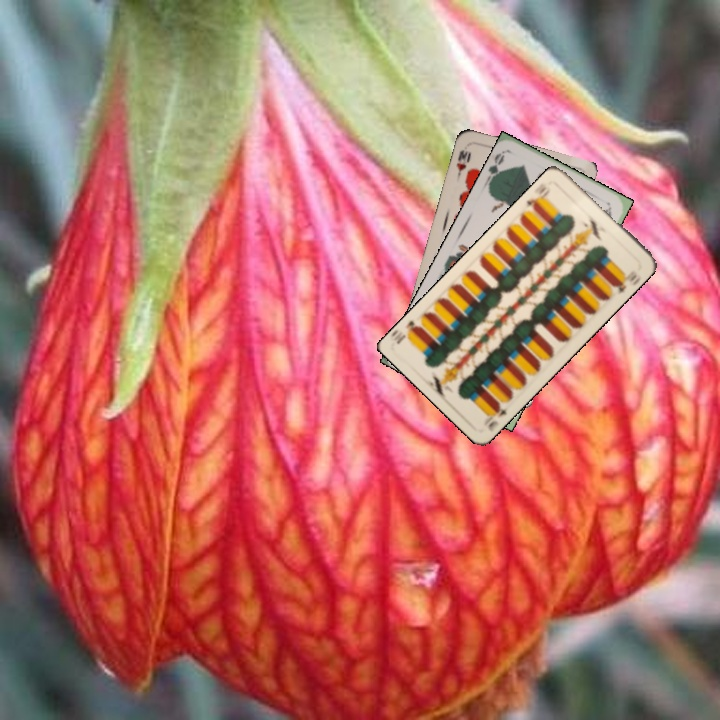E10: (484, 398, 514, 433), (522, 182, 553, 214)
GO: (481, 148, 507, 188)
H10: (452, 146, 474, 180)
